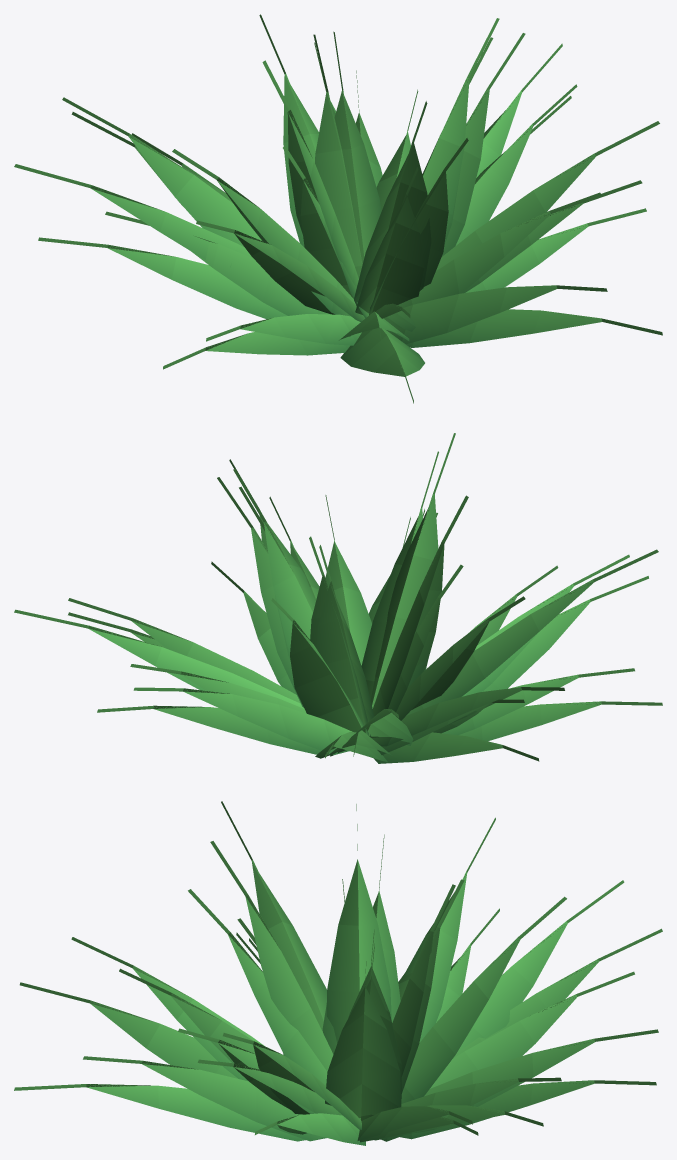
Rendered from ferns.glb.
3 views of the same model, one above another, from view 1: azimuth 30°, elevation 25°; view 2: azimuth 150°, elevation 25°; view 3: azimuth 270°, elevation 25° (orthographic). The views are drawn at different scales.
Visible parts, largest first — view 1: ferns_1, ferns_2, ferns_0; view 2: ferns_1, ferns_0, ferns_2; view 3: ferns_1, ferns_2, ferns_0.
Part boxes in pixels (<box>): ferns_1: <box>14,31,659,341</box>; ferns_2: <box>38,34,662,403</box>; ferns_0: <box>71,14,646,345</box>; ferns_1: <box>68,433,658,754</box>; ferns_0: <box>14,451,634,756</box>; ferns_2: <box>68,486,662,763</box>; ferns_1: <box>71,801,656,1140</box>; ferns_2: <box>14,804,658,1142</box>; ferns_0: <box>83,879,662,1145</box>.
Size of the model in its own units: 1.74 by 0.8558 by 1.76.
